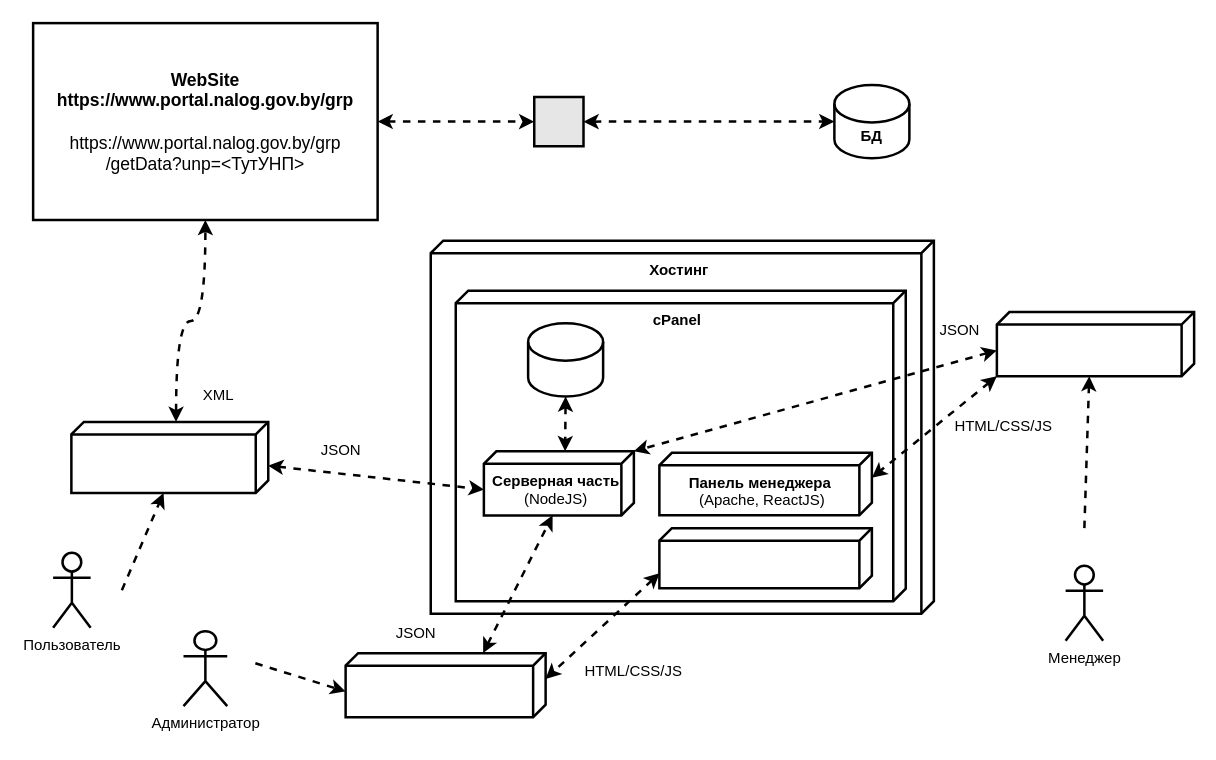
This 1216x760 diagram has some shape labels left out. The shapes that lost their labels are listed below. From the top down, each one's centre as x and y in pixels, then its label:
At [565,359]: "MySQL".
At [1095,343]: "Браузер www.de-pa.by/manager".
At [169,457]: "Android (app-release.apk)".
At [765,557]: "Панель администратора (Apache, ReactJS)".
At [445,684]: "Браузер www.de-pa.by/admin".
